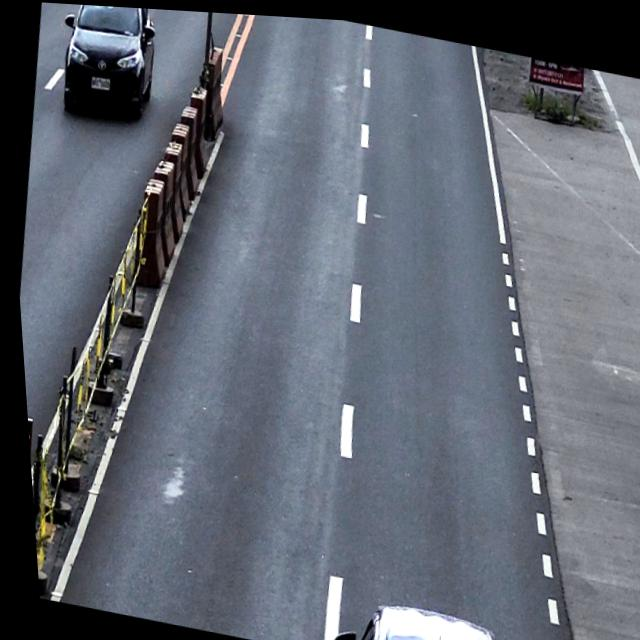Car: (51, 2, 167, 122), (318, 587, 528, 640)
License-Plate: (89, 75, 111, 91)
